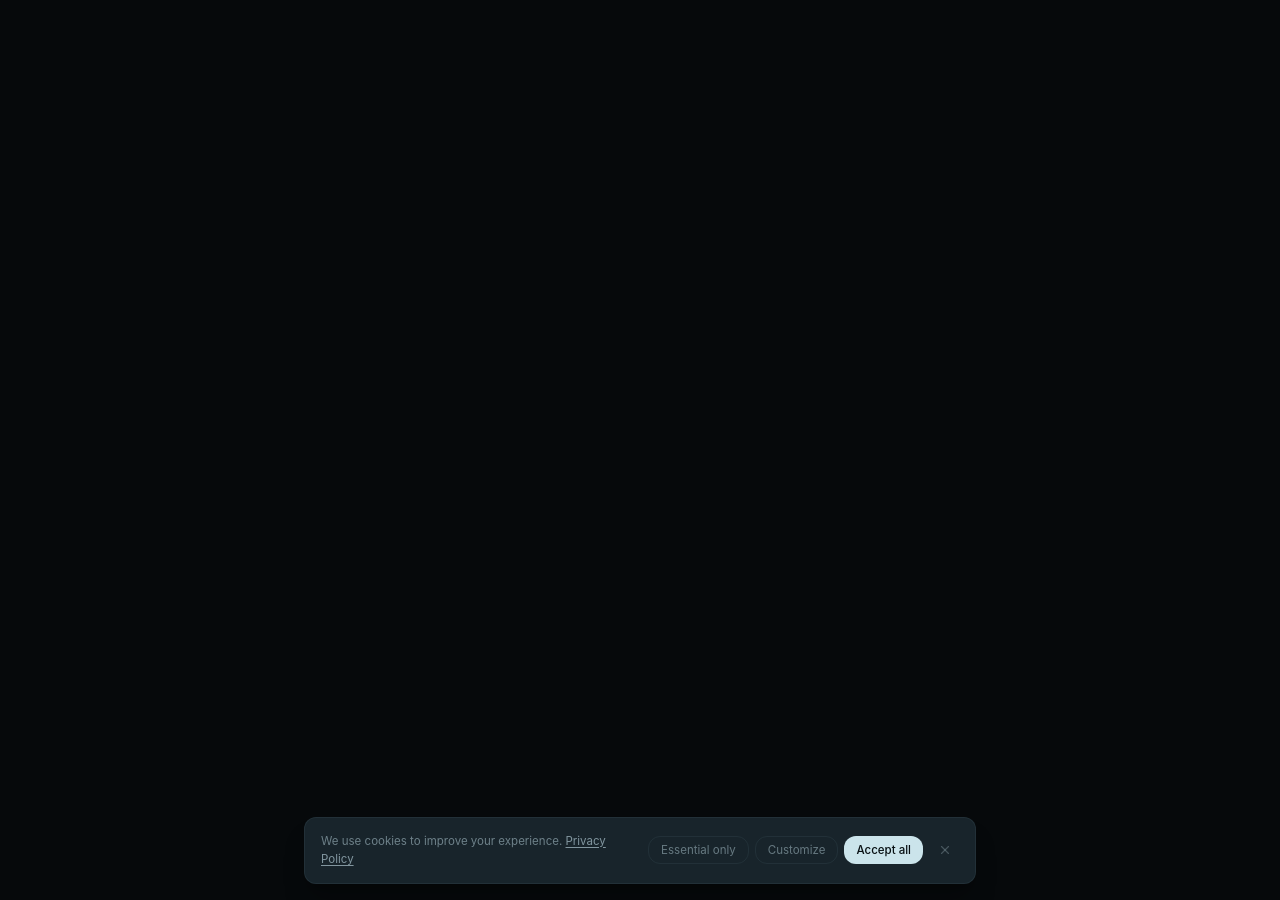
Test: CookieConsent › should open settings dialog when Customize is clicked
Step 1. Click the button "Customize" → (797, 850), box [755,836,838,864]
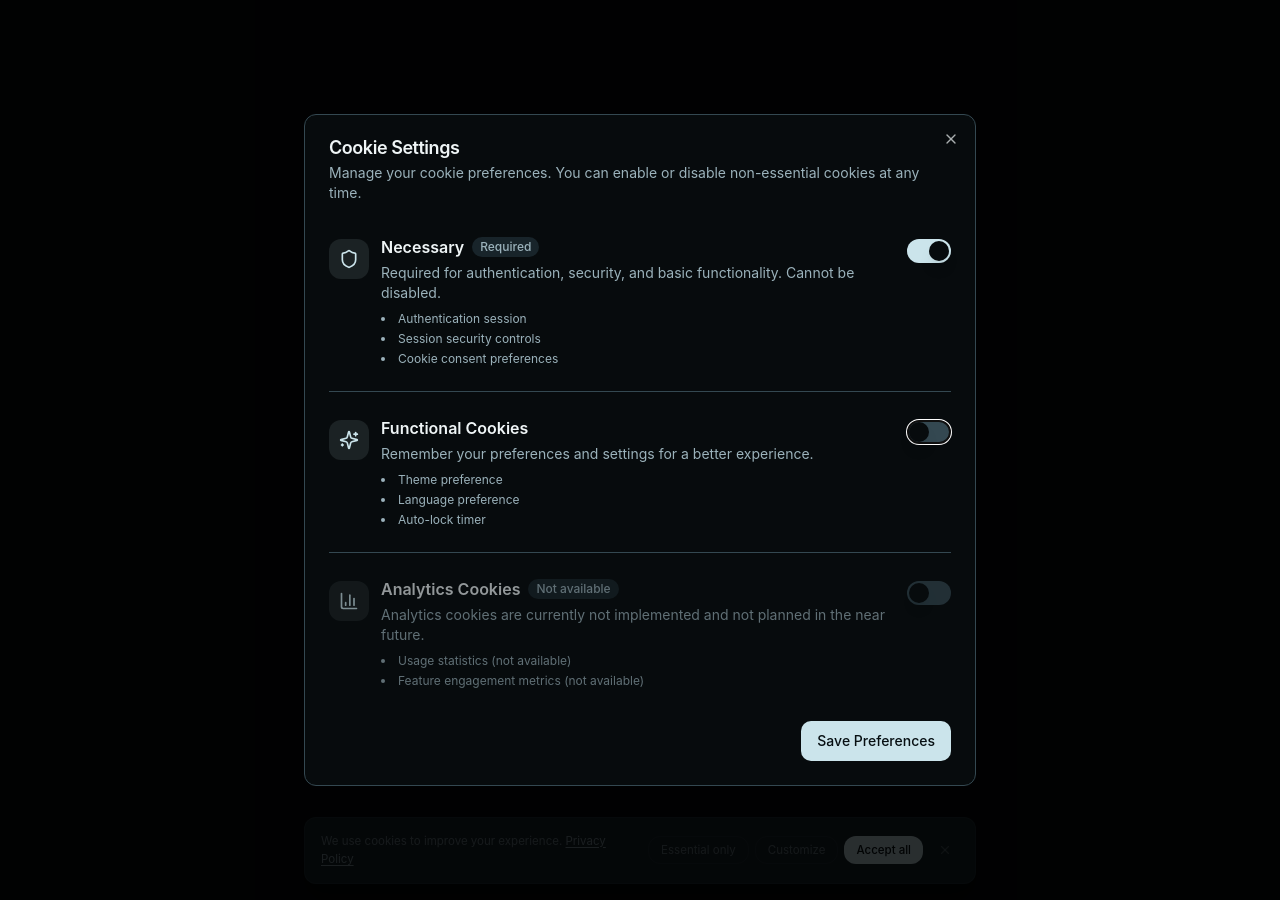
Result: the heading "Cookie Settings" is shown at [329,137,459,158]
